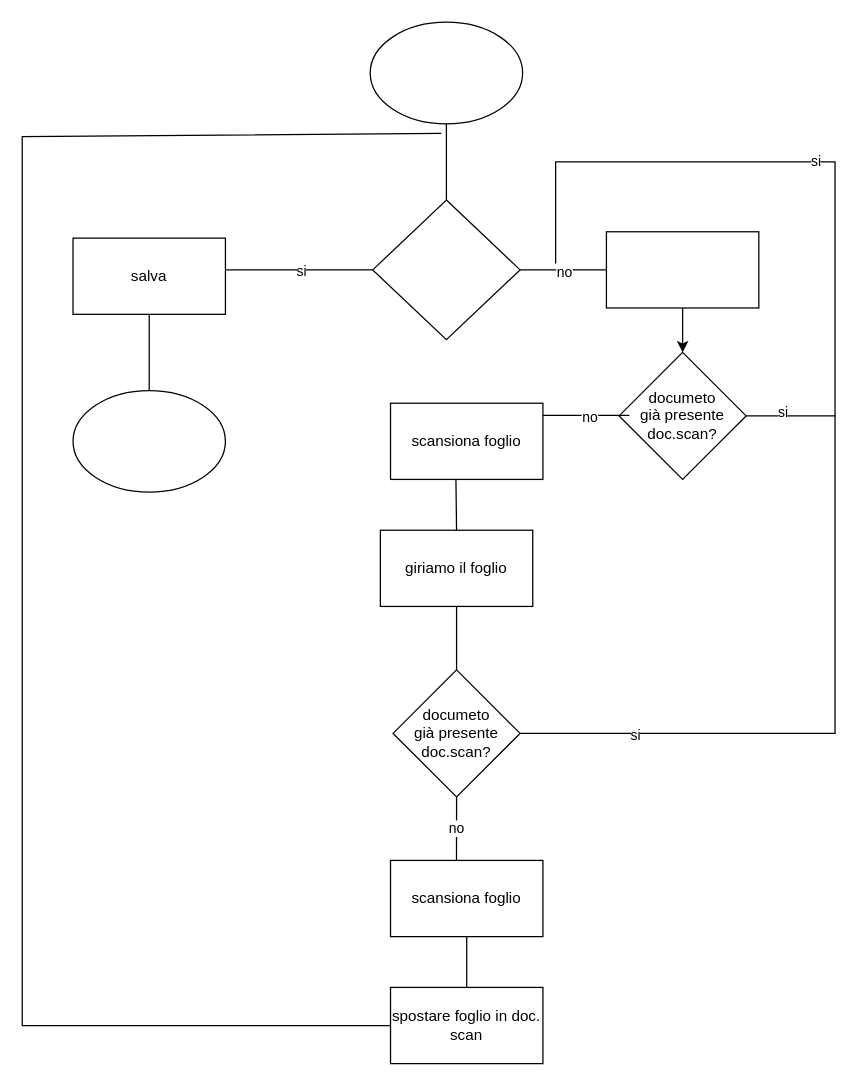
This 859x1086 diagram has some shape labels left out. Each missing label, with the box of its shape:
documenti cartacei file scansionati: (369, 21, 523, 124)
fine: (72, 389, 225, 492)
numero doc scansionati = doc scan.: (371, 199, 520, 340)
prendi foglio: (605, 231, 759, 308)
